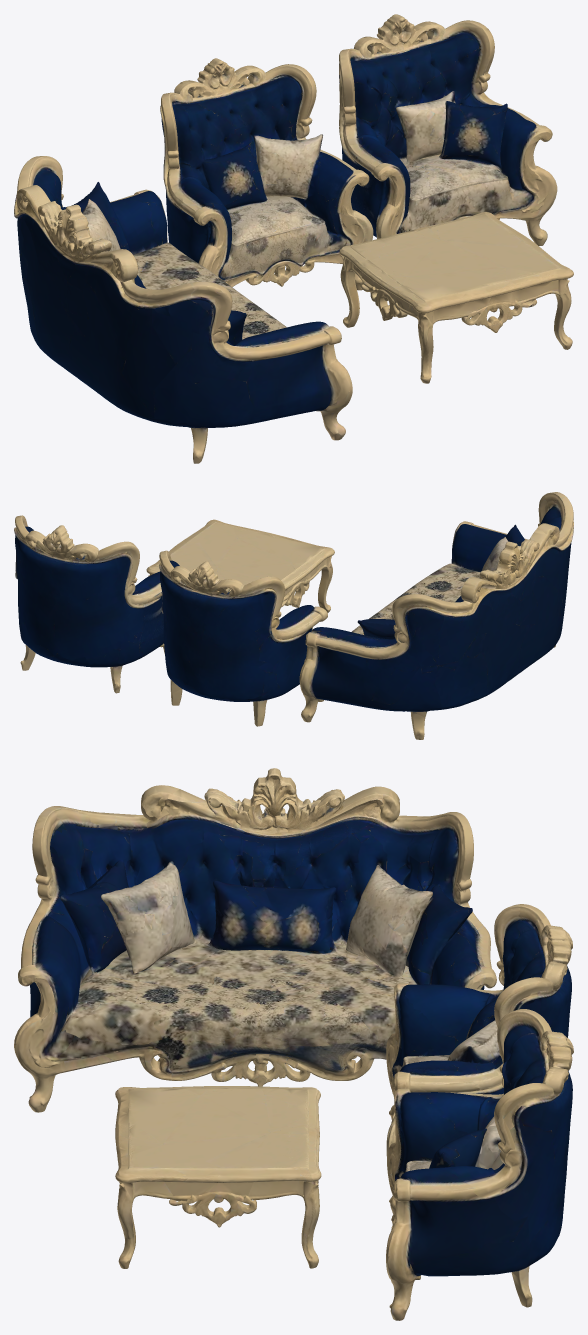
The model's file is royal_blue_gold_luxury_sofa_pair.glb.
The picture shows the model from 3 angles, top to bottom: view 1: azimuth 30°, elevation 25°; view 2: azimuth 150°, elevation 25°; view 3: azimuth 270°, elevation 25°; orthographic projection. The views are drawn at different scales.
Parts seen in each view (by area): view 1: mesh_node; view 2: mesh_node; view 3: mesh_node.
Part boxes in pixels (<box>): mesh_node: <box>14,14,573,463</box>; mesh_node: <box>14,492,573,739</box>; mesh_node: <box>14,768,573,1320</box>.
Size of the model in its own units: 1.9 by 0.6815 by 1.42.
1 material, 1 textured.
